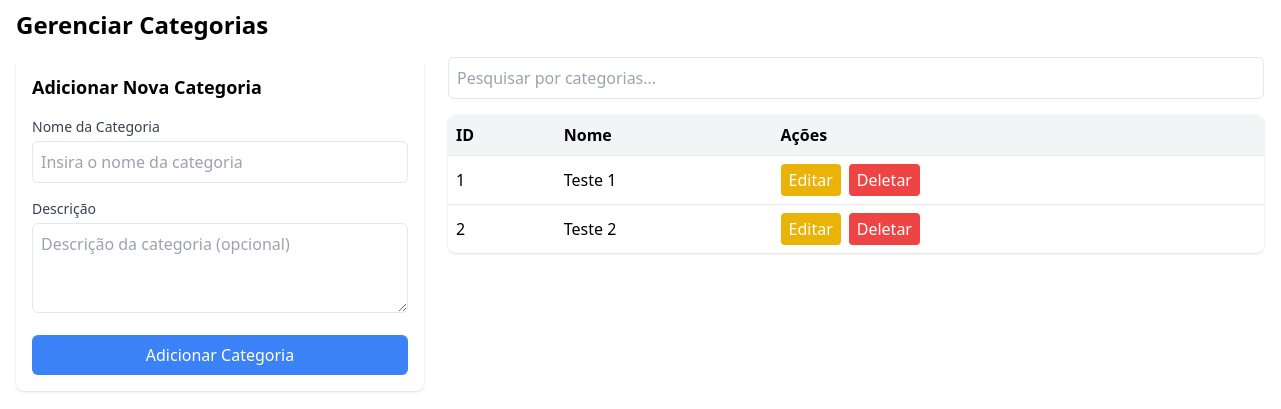
Test case: Categories Component › filtra categorias na busca
The image size is (1281, 409).
Expected: the text "Teste 1" is shown, [556,156,772,204]
Expected: the text "Teste 2" is shown, [556,204,772,253]
In the field with placeholder "Pesquisar por categorias...": (856, 78) [448,57,1264,99], type "1"
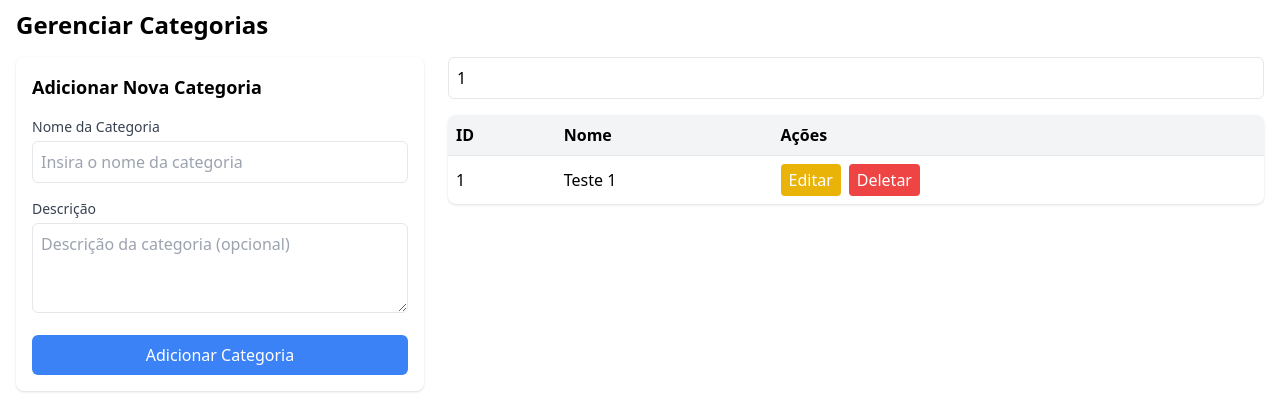
Expected: the text "Teste 1" is shown, [556,156,772,204]
Expected: the text "Teste 2" is gone
